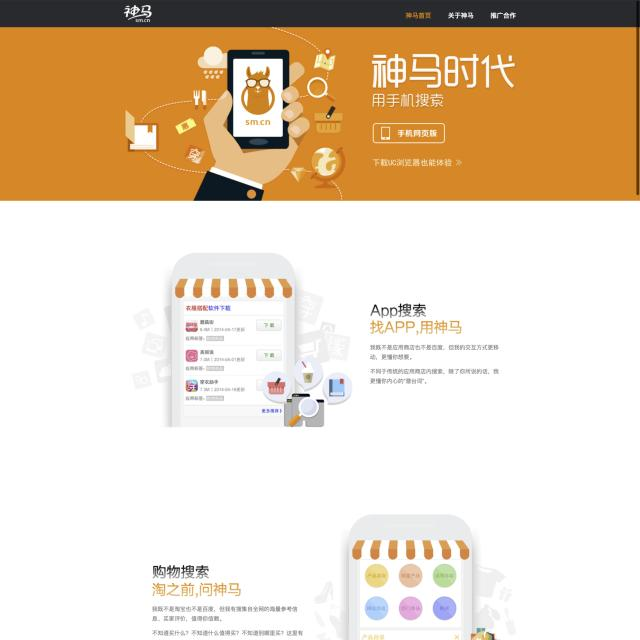logo: (121, 3, 156, 24)
navigation: (404, 11, 518, 22)
